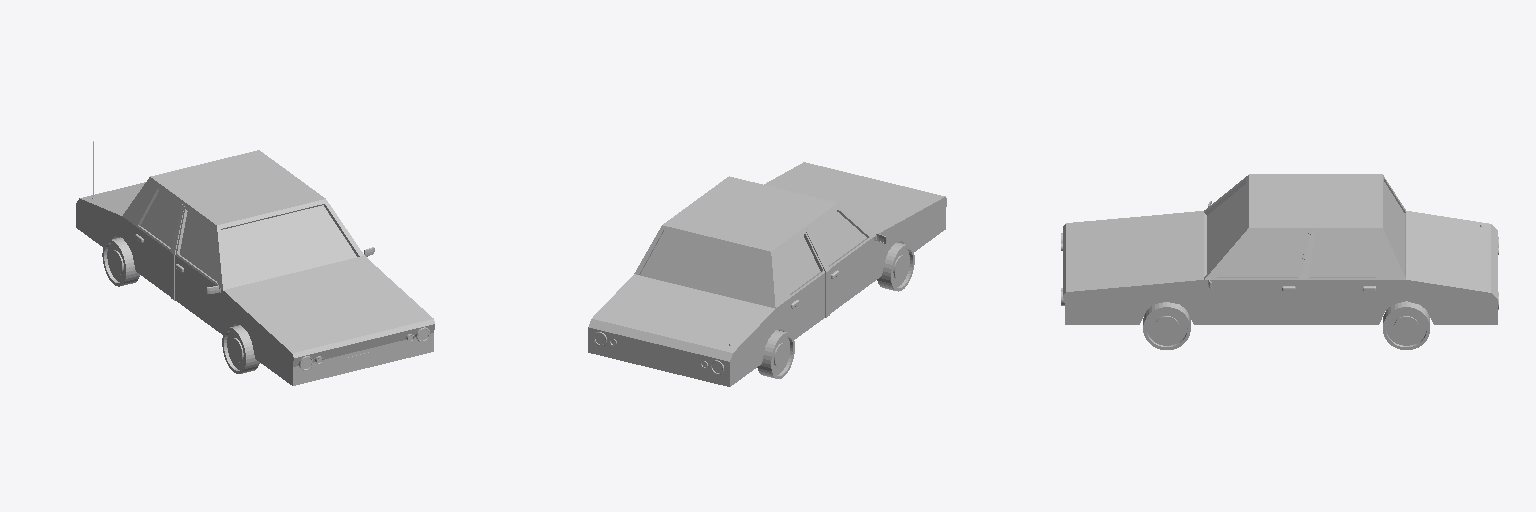
The model's file is Car.obj.
3 views of the same model, side by side, from view 1: azimuth 30°, elevation 25°; view 2: azimuth 150°, elevation 25°; view 3: azimuth 270°, elevation 25° (orthographic).
Visible parts, largest first — view 1: Body, Cylinder.04, Cylinder_02; view 2: Body, Cylinder.04, Cylinder_02; view 3: Body, Cylinder_01, Cylinder_03.
Boxes of the visible parts, box(x1,y1,x2,y2) form: Body: box(76, 150, 434, 385); Cylinder.04: box(102, 237, 139, 286); Cylinder_02: box(222, 325, 259, 373); Body: box(588, 162, 946, 386); Cylinder.04: box(757, 330, 794, 378); Cylinder_02: box(877, 242, 914, 291); Body: box(1063, 174, 1497, 324); Cylinder_01: box(1143, 302, 1190, 349); Cylinder_03: box(1383, 301, 1429, 349).
Size of the model in its own units: 502 by 322 by 1137.